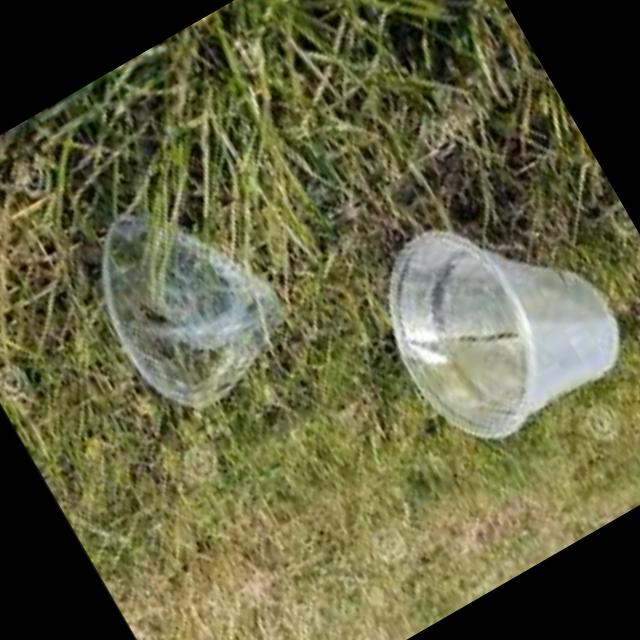GelasPlastik: (349, 168, 640, 467)
